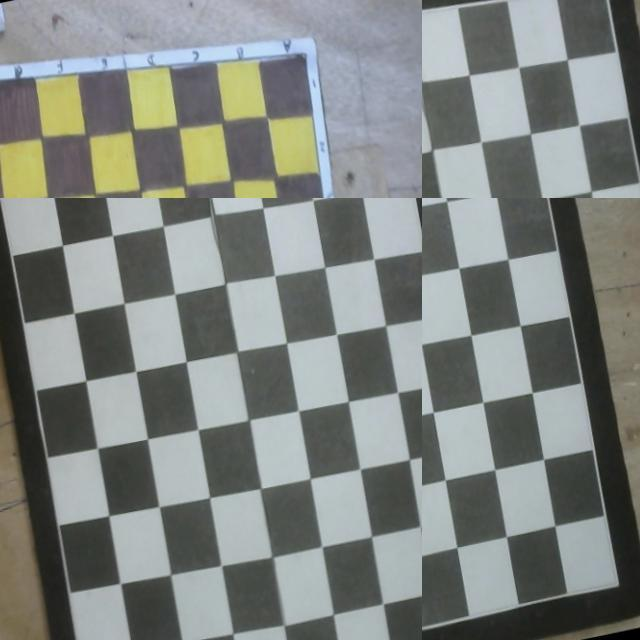chess-table-corners: (615, 581, 623, 591), (302, 52, 308, 61), (600, 0, 608, 5), (422, 48, 426, 58), (518, 198, 525, 202), (0, 83, 2, 89), (398, 198, 402, 201), (422, 198, 425, 202)
